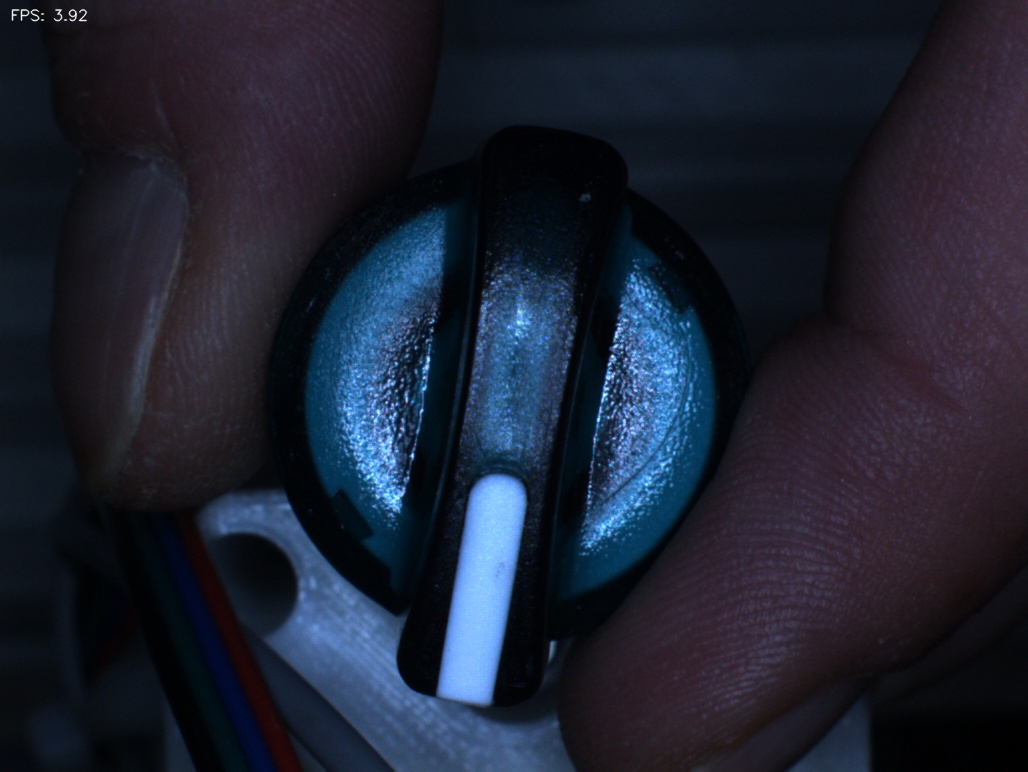PointNoir: (469, 537, 540, 610)
